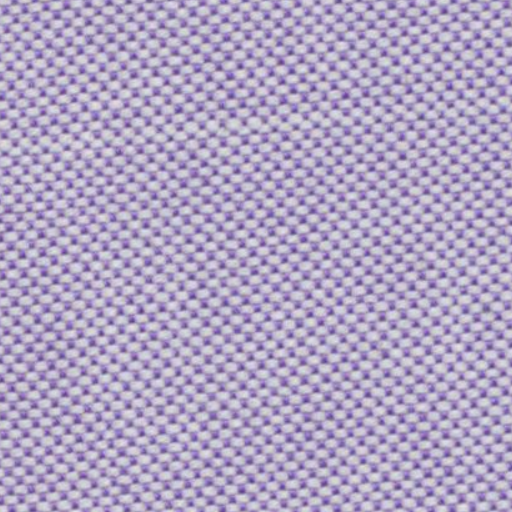TuoSha: (20, 86, 490, 179)
